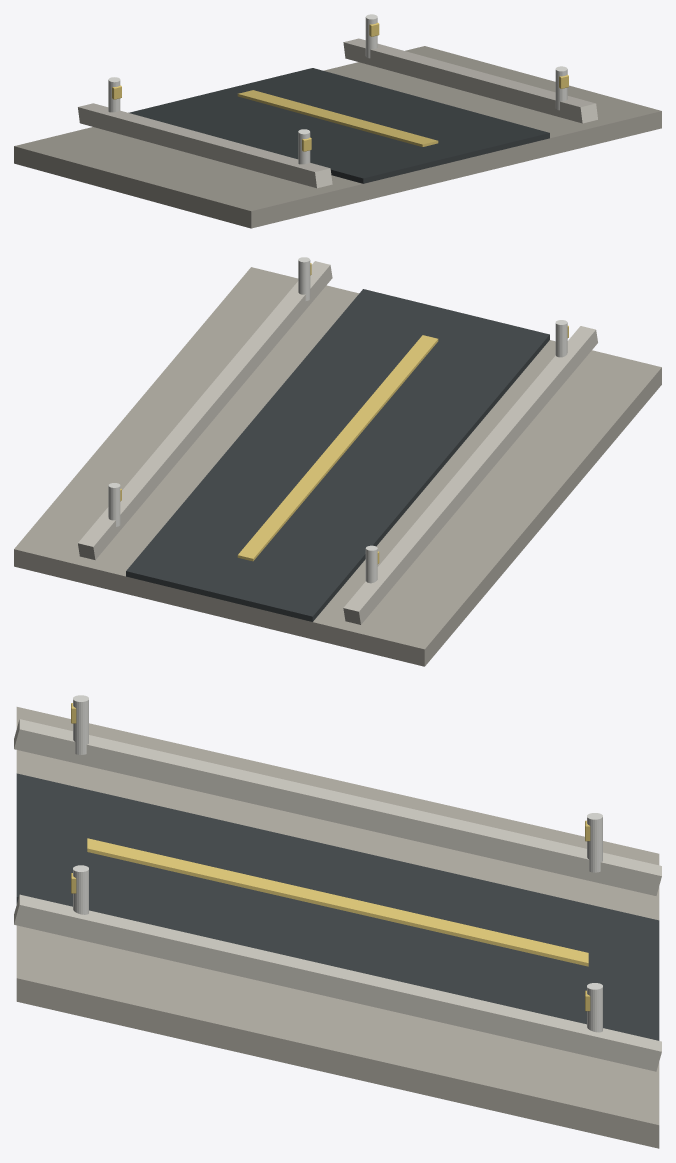
File: ROAD_LOCAL_SLOPE_1x1_DOWN_050.glb
3 views of the same model, one above another, from view 1: azimuth 30°, elevation 25°; view 2: azimuth 150°, elevation 25°; view 3: azimuth 270°, elevation 25° (orthographic). The views are drawn at different scales.
Parts seen in each view (by area): view 1: ROAD_LOCAL_SLOPE_1x1_DOWN_050_Visual; view 2: ROAD_LOCAL_SLOPE_1x1_DOWN_050_Visual; view 3: ROAD_LOCAL_SLOPE_1x1_DOWN_050_Visual.
Boxes of the visible parts, box(x1,y1,x2,y2) form: ROAD_LOCAL_SLOPE_1x1_DOWN_050_Visual: box(14, 14, 661, 228); ROAD_LOCAL_SLOPE_1x1_DOWN_050_Visual: box(14, 257, 661, 666); ROAD_LOCAL_SLOPE_1x1_DOWN_050_Visual: box(14, 695, 661, 1148).
Size of what is drawn, in the model's own units: 1.98 by 0.78 by 2.
